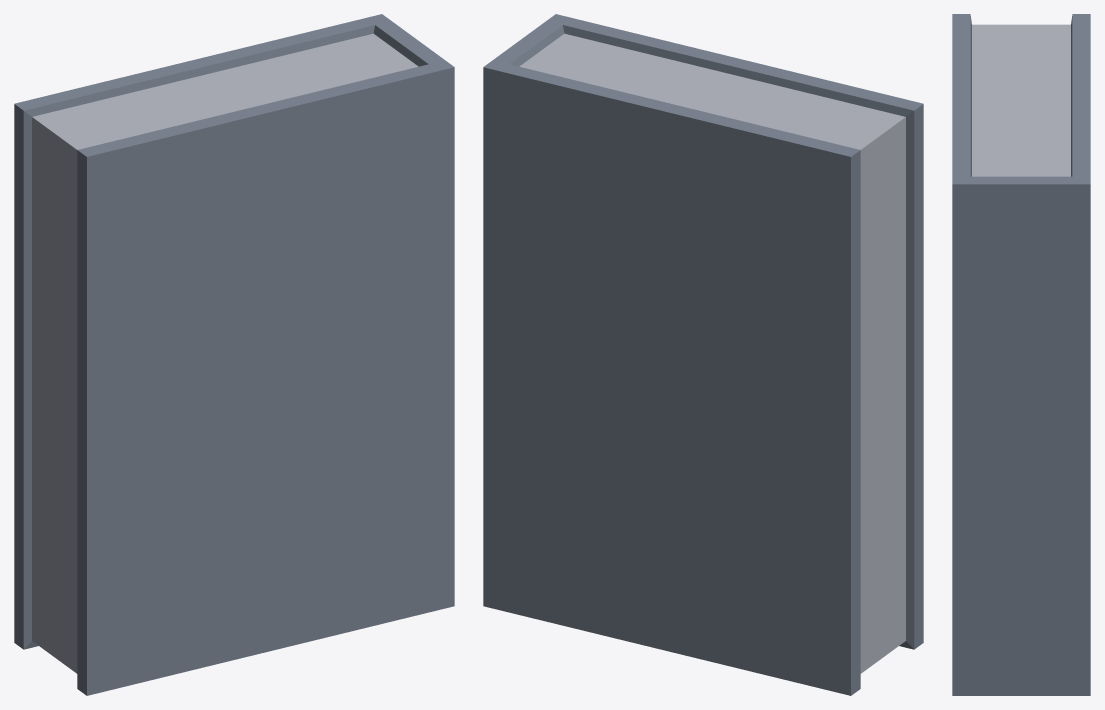
The model's file is Livre.fbx.
3 views of the same model, side by side, from view 1: azimuth 30°, elevation 25°; view 2: azimuth 150°, elevation 25°; view 3: azimuth 270°, elevation 25° (orthographic). The views are drawn at different scales.
Parts seen in each view (by area): view 1: Livre; view 2: Livre; view 3: Livre.
Boxes of the visible parts, x1=… form: Livre: x1=14, y1=14, x2=454, y2=695; Livre: x1=483, y1=14, x2=923, y2=695; Livre: x1=952, y1=14, x2=1090, y2=695.
Size of the model in its own units: 83.72 by 117 by 28.66.
